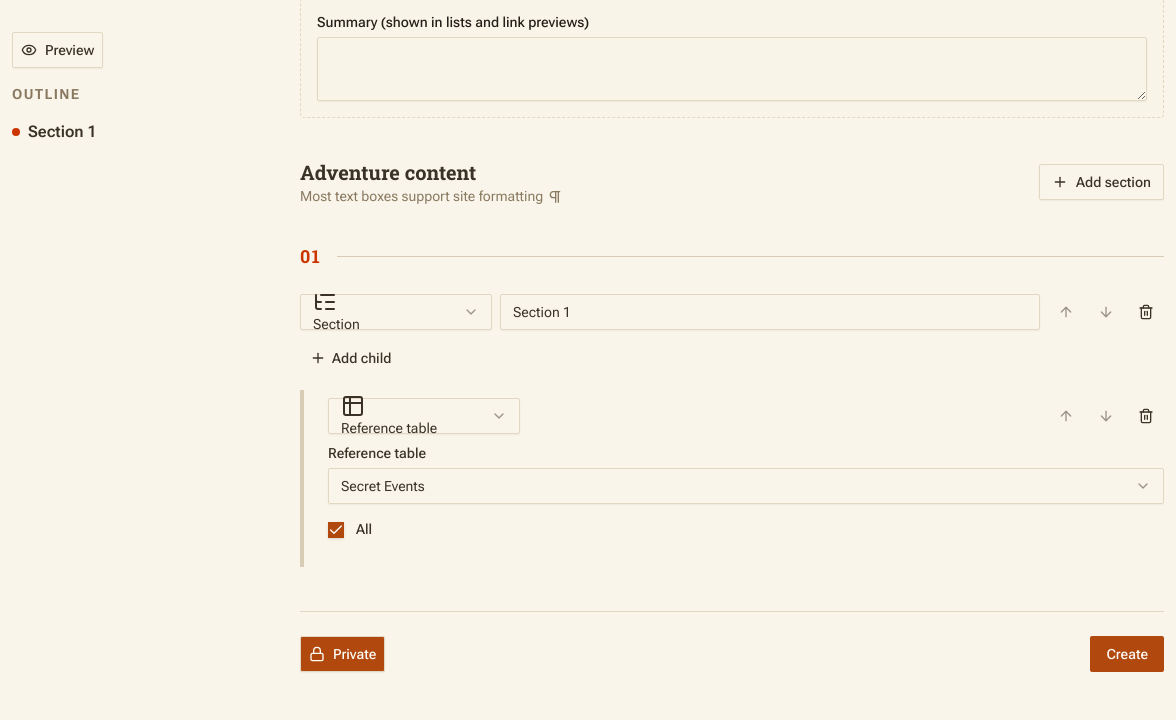
Test: AdventureForm › blocks publishing an adventure containing an owned private table
(page scrolled)
Click the button "Private". click: [343, 654]
box: x1=300 y1=636 x2=385 y2=672
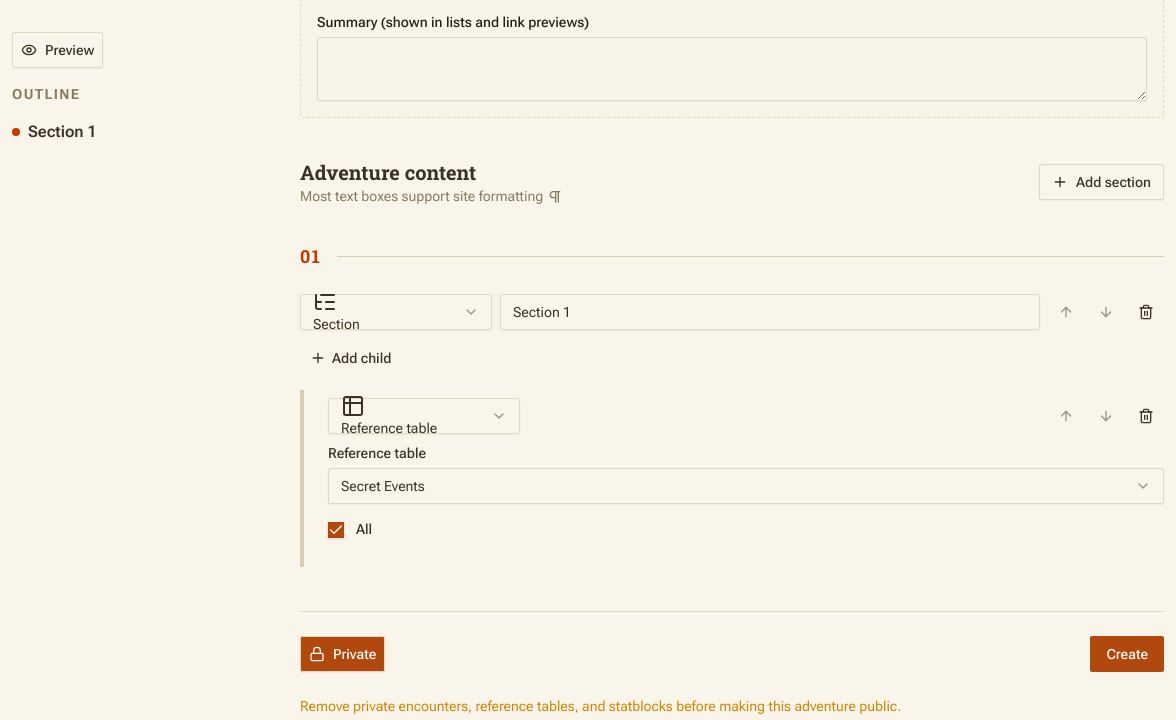
Result: the text "Remove private encounters, reference tables, and statblocks before making this adventure public." is shown at x1=300 y1=698 x2=901 y2=714
